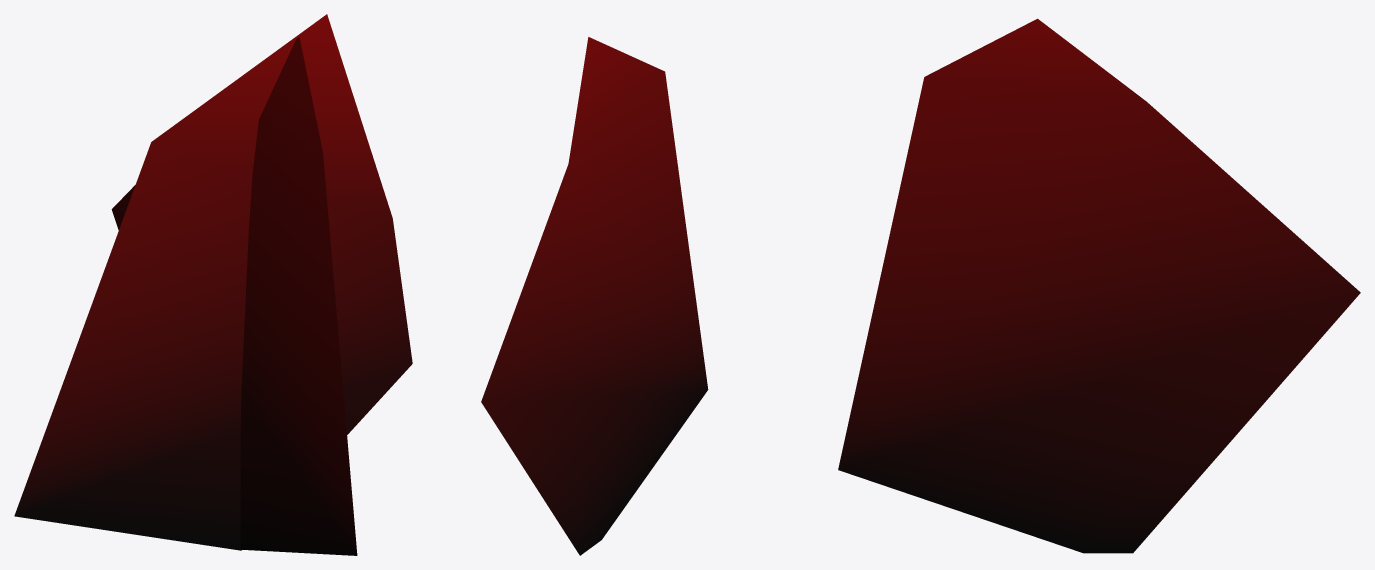
File: Greater Burdock_LOD6_Var2_xh5pdgiqx.fbx
The picture shows the model from 3 angles, left to right: view 1: azimuth 30°, elevation 25°; view 2: azimuth 150°, elevation 25°; view 3: azimuth 270°, elevation 25°; orthographic projection. The views are drawn at different scales.
Parts seen in each view (by area): view 1: _xli3_Var2_LOD6; view 2: _xli3_Var2_LOD6; view 3: _xli3_Var2_LOD6.
Boxes of the visible parts, <box> form: _xli3_Var2_LOD6: <box>14,14,412,555</box>; _xli3_Var2_LOD6: <box>481,37,708,555</box>; _xli3_Var2_LOD6: <box>838,18,1360,553</box>.
Bounding box in the file's own units: 77.06 × 99.68 × 82.31.
